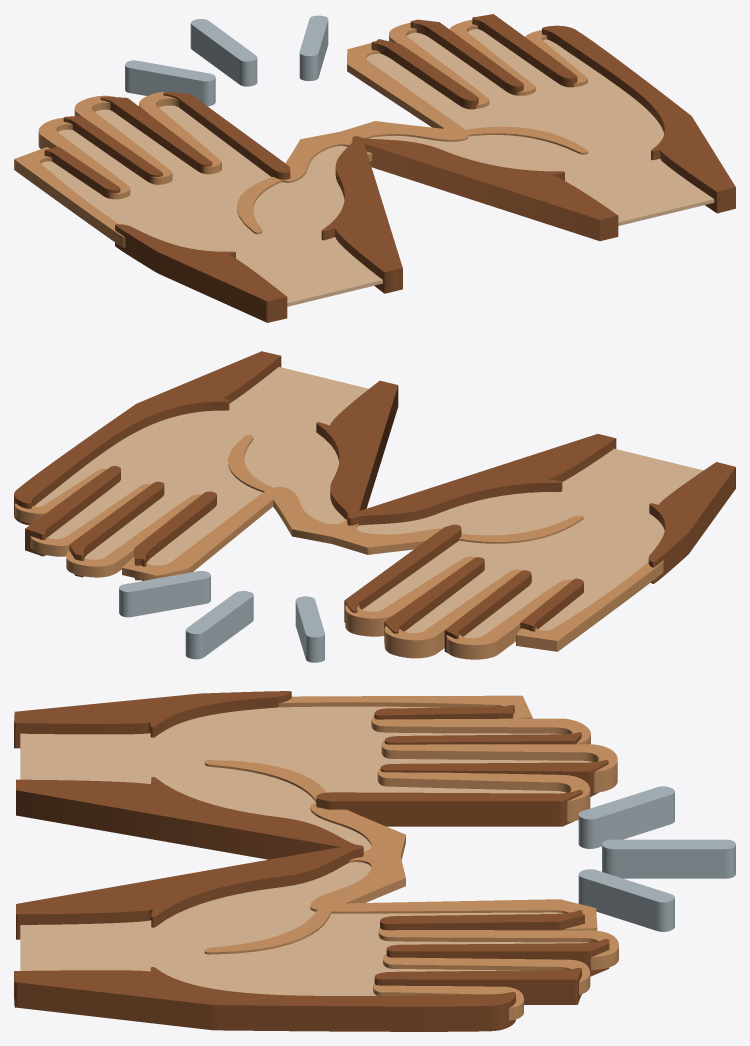
The model's file is emoji_u1f64c_1f3fc.glb.
3 renders of one model, top to bottom at view 1: azimuth 30°, elevation 25°; view 2: azimuth 150°, elevation 25°; view 3: azimuth 270°, elevation 25°, orthographic. The views are drawn at different scales.
Visible parts, largest first — view 1: emoji_u1f64c_1f3fc; view 2: emoji_u1f64c_1f3fc; view 3: emoji_u1f64c_1f3fc.
Part boxes in pixels (x1,y1,x2,y2): emoji_u1f64c_1f3fc: [14, 14, 735, 322]; emoji_u1f64c_1f3fc: [14, 351, 735, 662]; emoji_u1f64c_1f3fc: [14, 691, 735, 1031].
Bounding box in the file's own units: 0.0322 × 0.0014 × 0.031.
